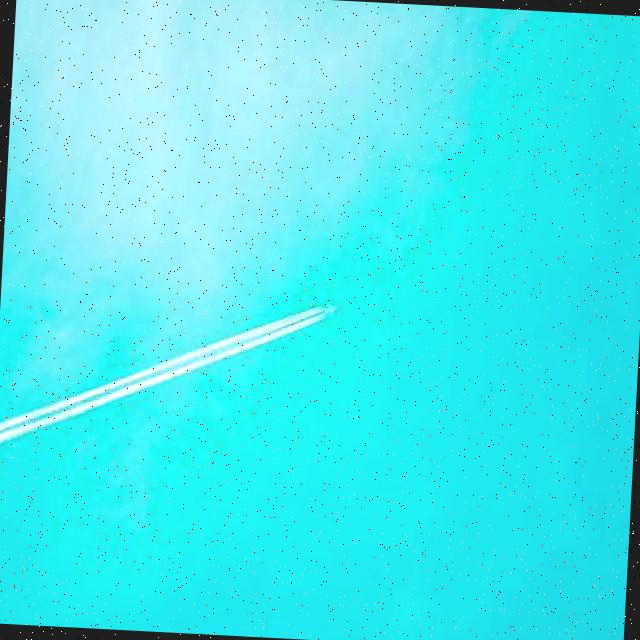Ct: (1, 43, 636, 538)
